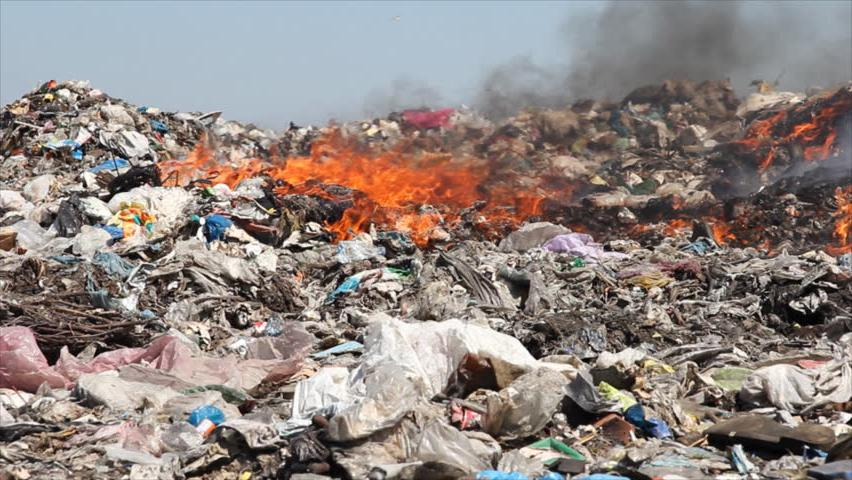fire: (155, 134, 544, 241), (725, 100, 852, 169), (643, 206, 735, 248), (813, 191, 852, 261)
